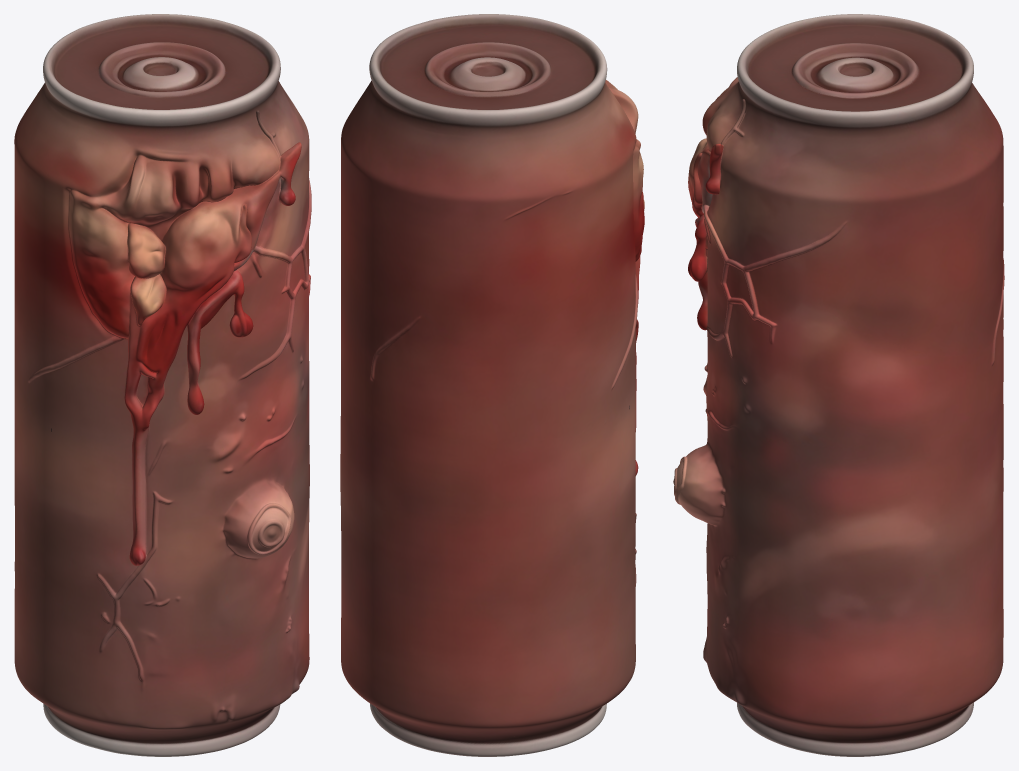
The model's file is SodaCan.glb.
3 renders of one model, left to right at view 1: azimuth 30°, elevation 25°; view 2: azimuth 150°, elevation 25°; view 3: azimuth 270°, elevation 25°, orthographic.
Visible parts, largest first — view 1: tripo_node_862f2876-17bd-4832-8725-34a2749caa00; view 2: tripo_node_862f2876-17bd-4832-8725-34a2749caa00; view 3: tripo_node_862f2876-17bd-4832-8725-34a2749caa00.
Boxes of the visible parts, x1,y1,x2,y2 form: tripo_node_862f2876-17bd-4832-8725-34a2749caa00: [14, 14, 311, 756]; tripo_node_862f2876-17bd-4832-8725-34a2749caa00: [340, 14, 644, 756]; tripo_node_862f2876-17bd-4832-8725-34a2749caa00: [673, 14, 1004, 756].
Bounding box in the file's own units: 0.4192 × 1 × 0.465.
Materials: 1 (1 with a texture image).
